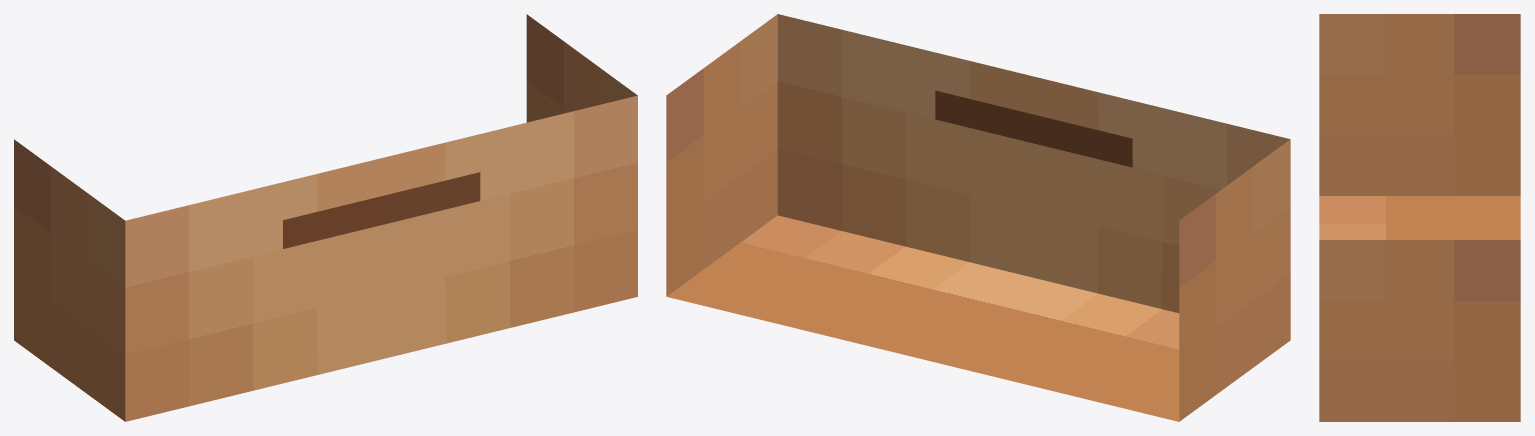
File: skM1_jesse_mouthMM.glb
3 renders of one model, left to right at view 1: azimuth 30°, elevation 25°; view 2: azimuth 150°, elevation 25°; view 3: azimuth 270°, elevation 25°, orthographic. The views are drawn at different scales.
Parts seen in each view (by area): view 1: skM1_jesse; view 2: skM1_jesse; view 3: skM1_jesse.
Boxes of the visible parts, box(x1,y1,x2,y2) form: skM1_jesse: box(14, 14, 637, 421); skM1_jesse: box(666, 14, 1290, 421); skM1_jesse: box(1319, 14, 1520, 421).
Bounding box in the file's own units: 0.5012 × 0.1883 × 0.1885.
Materials: 1 (1 with a texture image).
